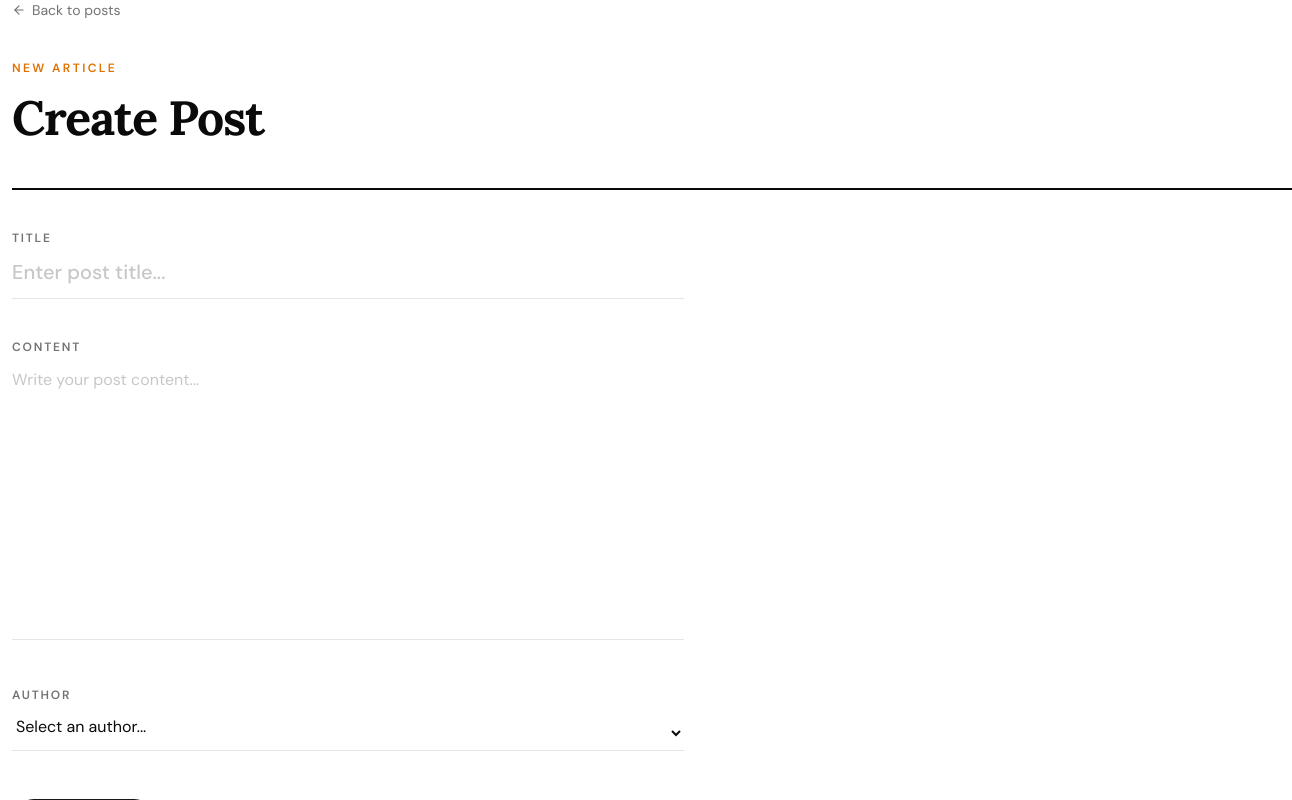
it: PostForm › create mode › validation › shows an error when the content is empty on submit
Type "Valid Title" into the field labelled "Title" at (348, 278), box top-left (12, 258), bottom-right (684, 299)
(page scrolled)
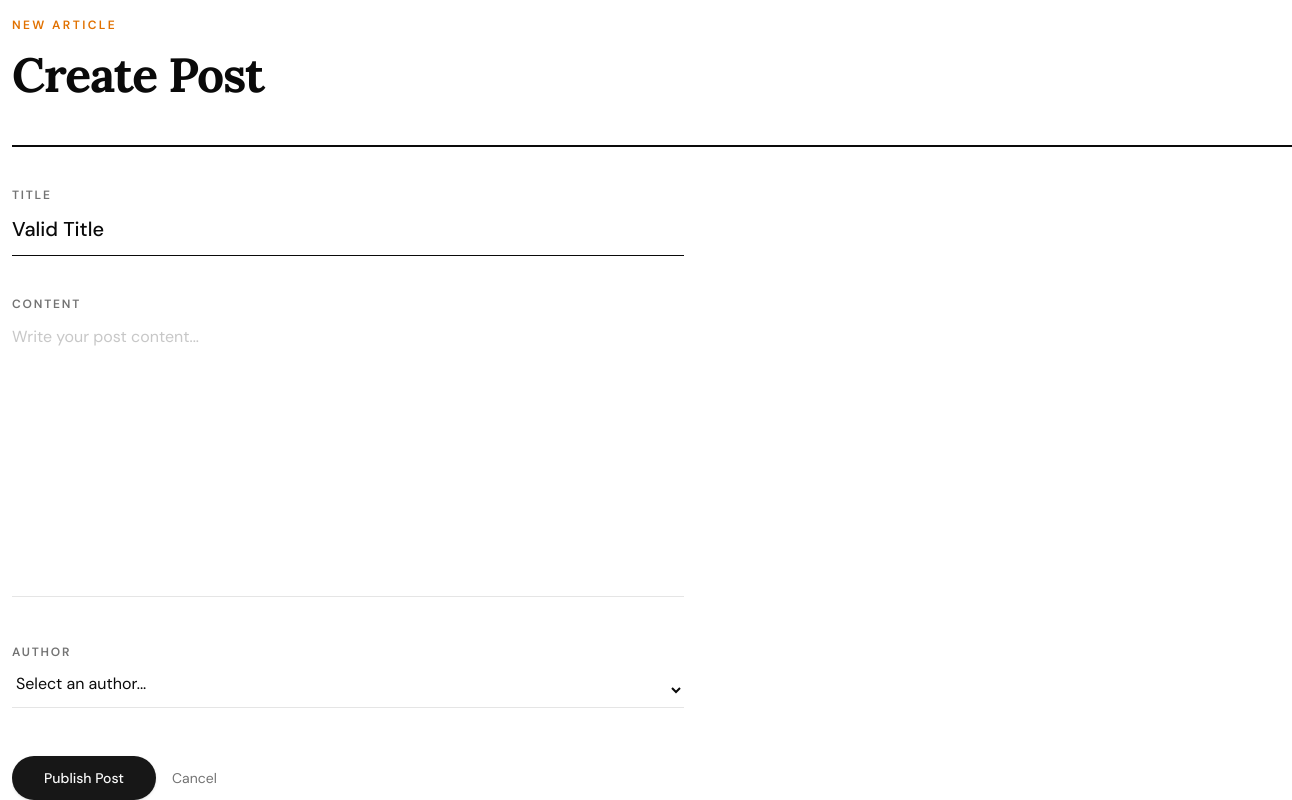
Click the button "Publish Post" at (84, 778), box top-left (12, 756), bottom-right (156, 799)
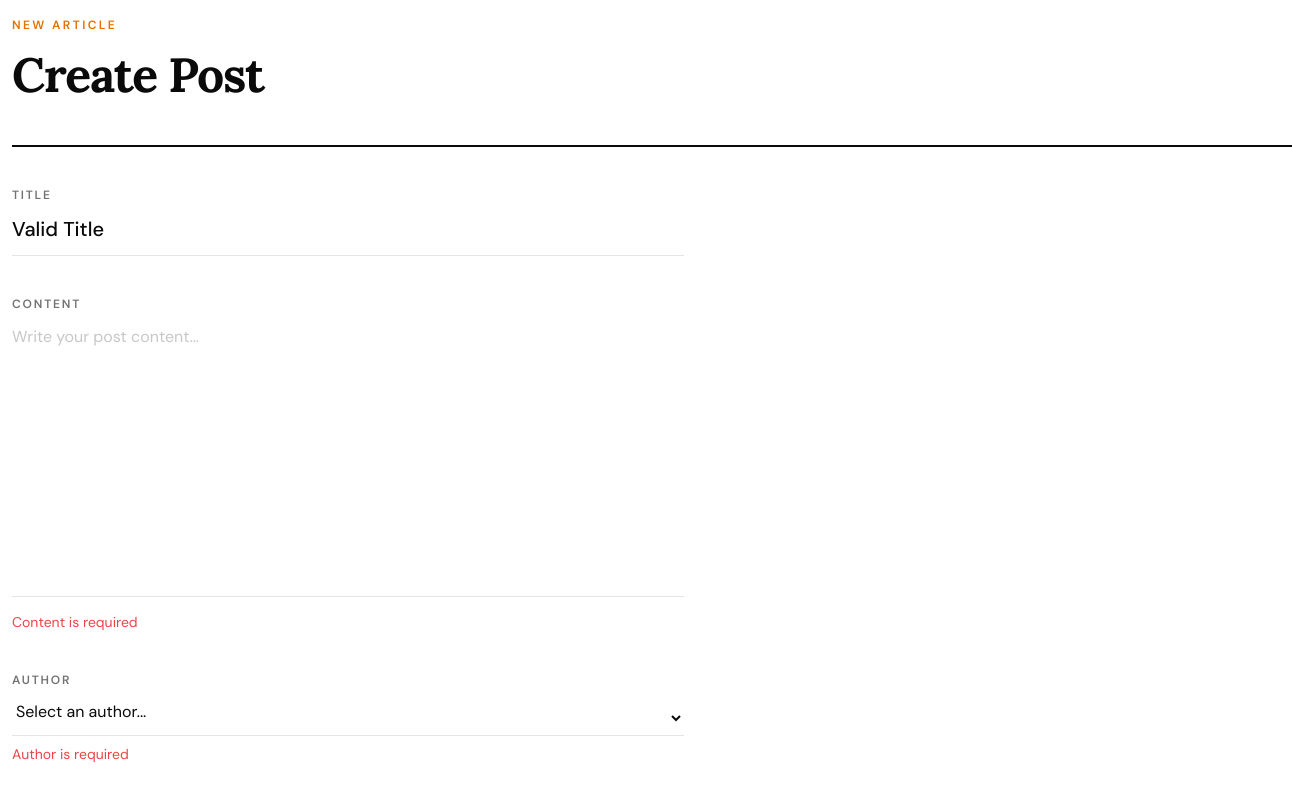
Expected: the text "Content is required" is shown, top-left (12, 613), bottom-right (138, 631)
